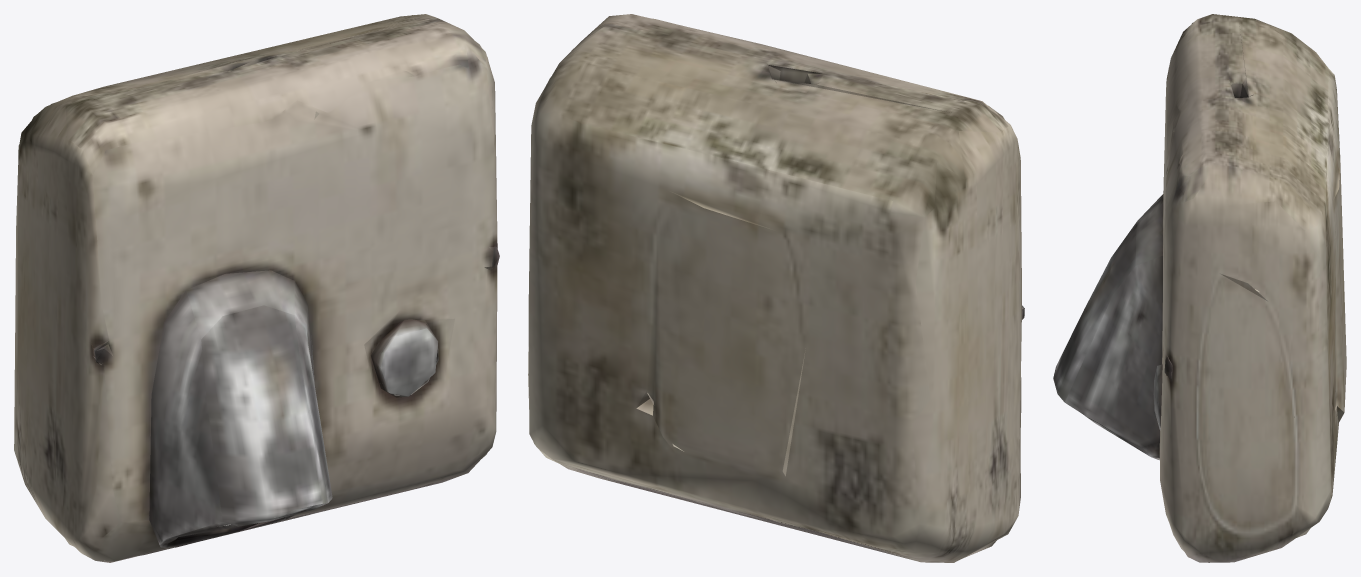
File: p7-hand-dryer.glb
3 renders of one model, left to right at view 1: azimuth 30°, elevation 25°; view 2: azimuth 150°, elevation 25°; view 3: azimuth 270°, elevation 25°, orthographic. The views are drawn at different scales.
Parts seen in each view (by area): view 1: p7-hand-dryer; view 2: p7-hand-dryer; view 3: p7-hand-dryer.
Part boxes in pixels (x1=…): p7-hand-dryer: x1=14, y1=14, x2=499, y2=562; p7-hand-dryer: x1=528, y1=14, x2=1024, y2=562; p7-hand-dryer: x1=1053, y1=14, x2=1346, y2=562.
Size of the model in its own units: 0.3 by 0.3 by 0.2.
1 material, 1 textured.
